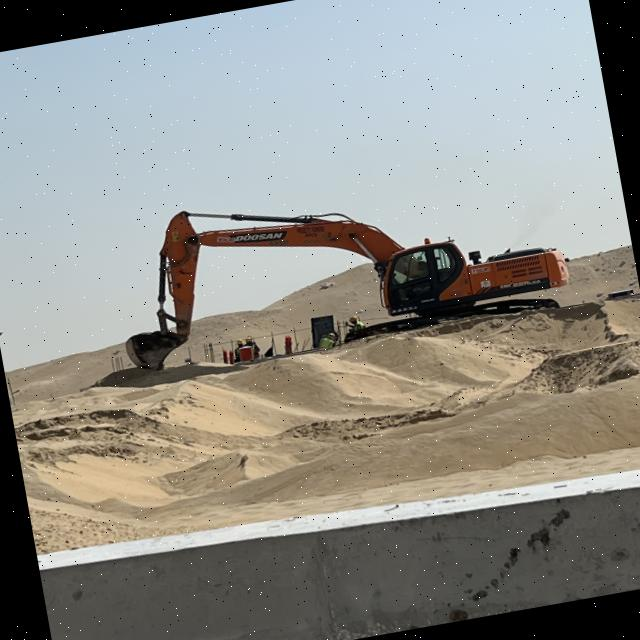Excavator: (101, 140, 578, 401)
